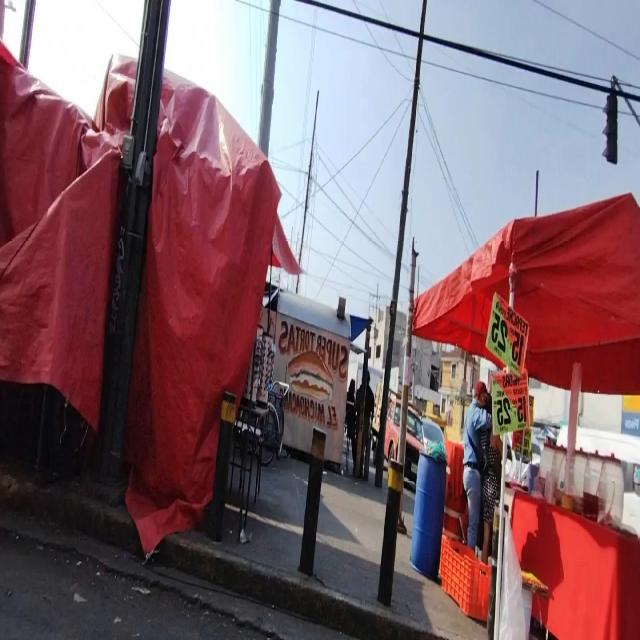adult: (463, 382, 492, 550), (355, 373, 374, 475)
